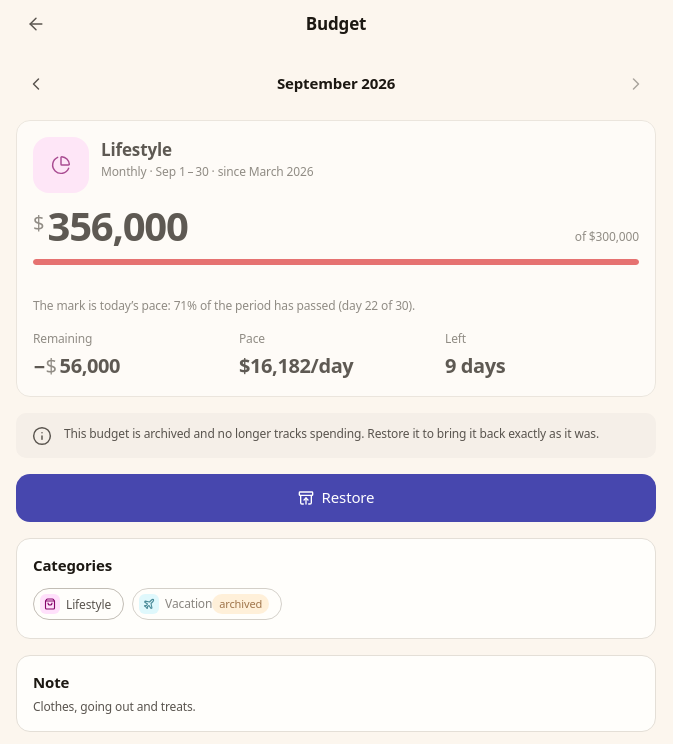
Scenario: BudgetDetailScreen › explains an archived budget, hides the actions and restores it
The width and height of the screenshot is (673, 744).
Expected: the text "This budget is archived" is shown, [64,425,599,442]
Click the button named "Restore".
click(336, 498)  # box [16,474,656,522]
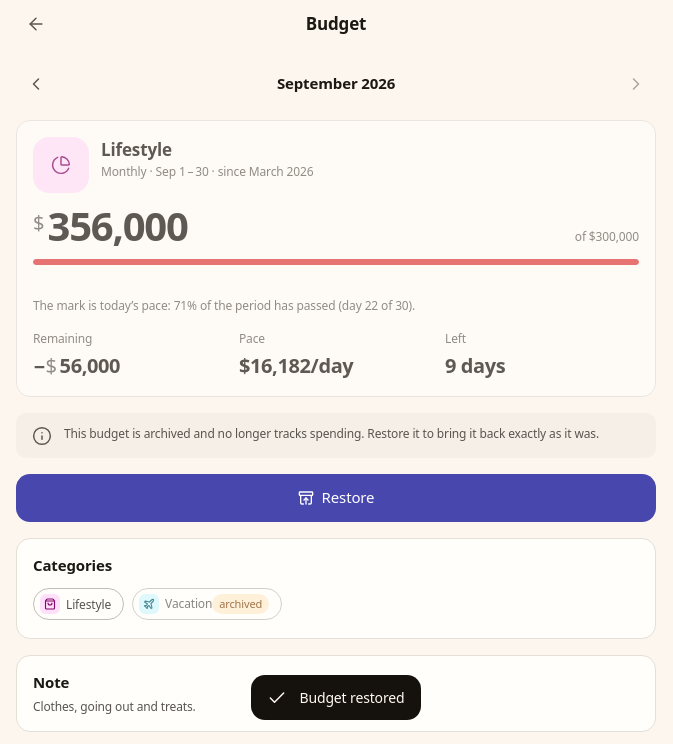
Expected: the text "Budget restored" is shown, [251,675,420,720]
